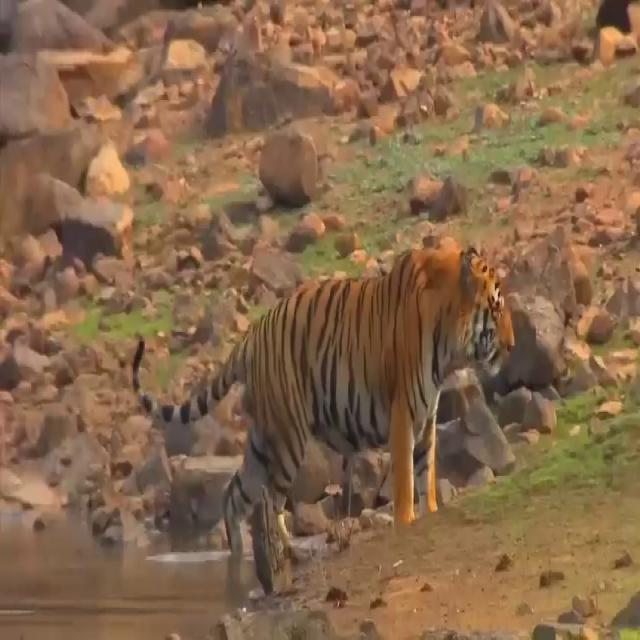tiger: (131, 247, 515, 555)
